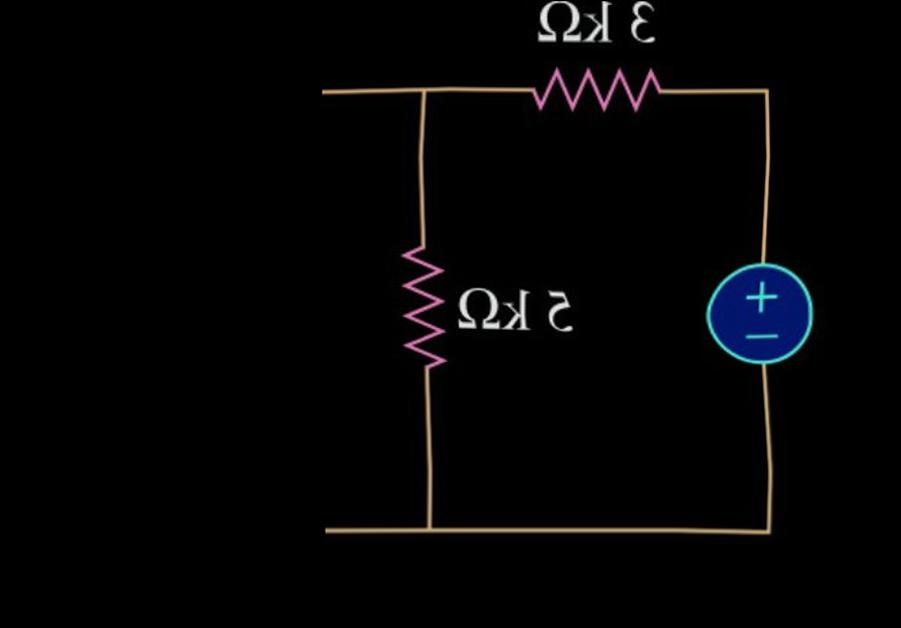Battery: (664, 241, 829, 398)
